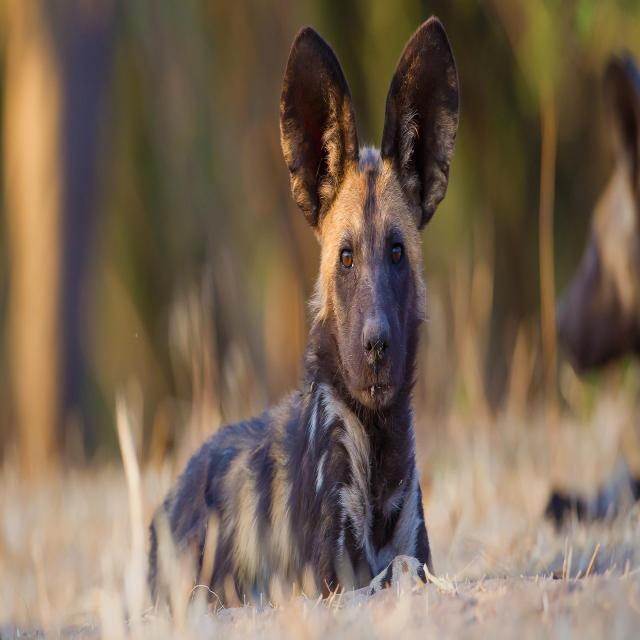Dog: (254, 6, 486, 434)
